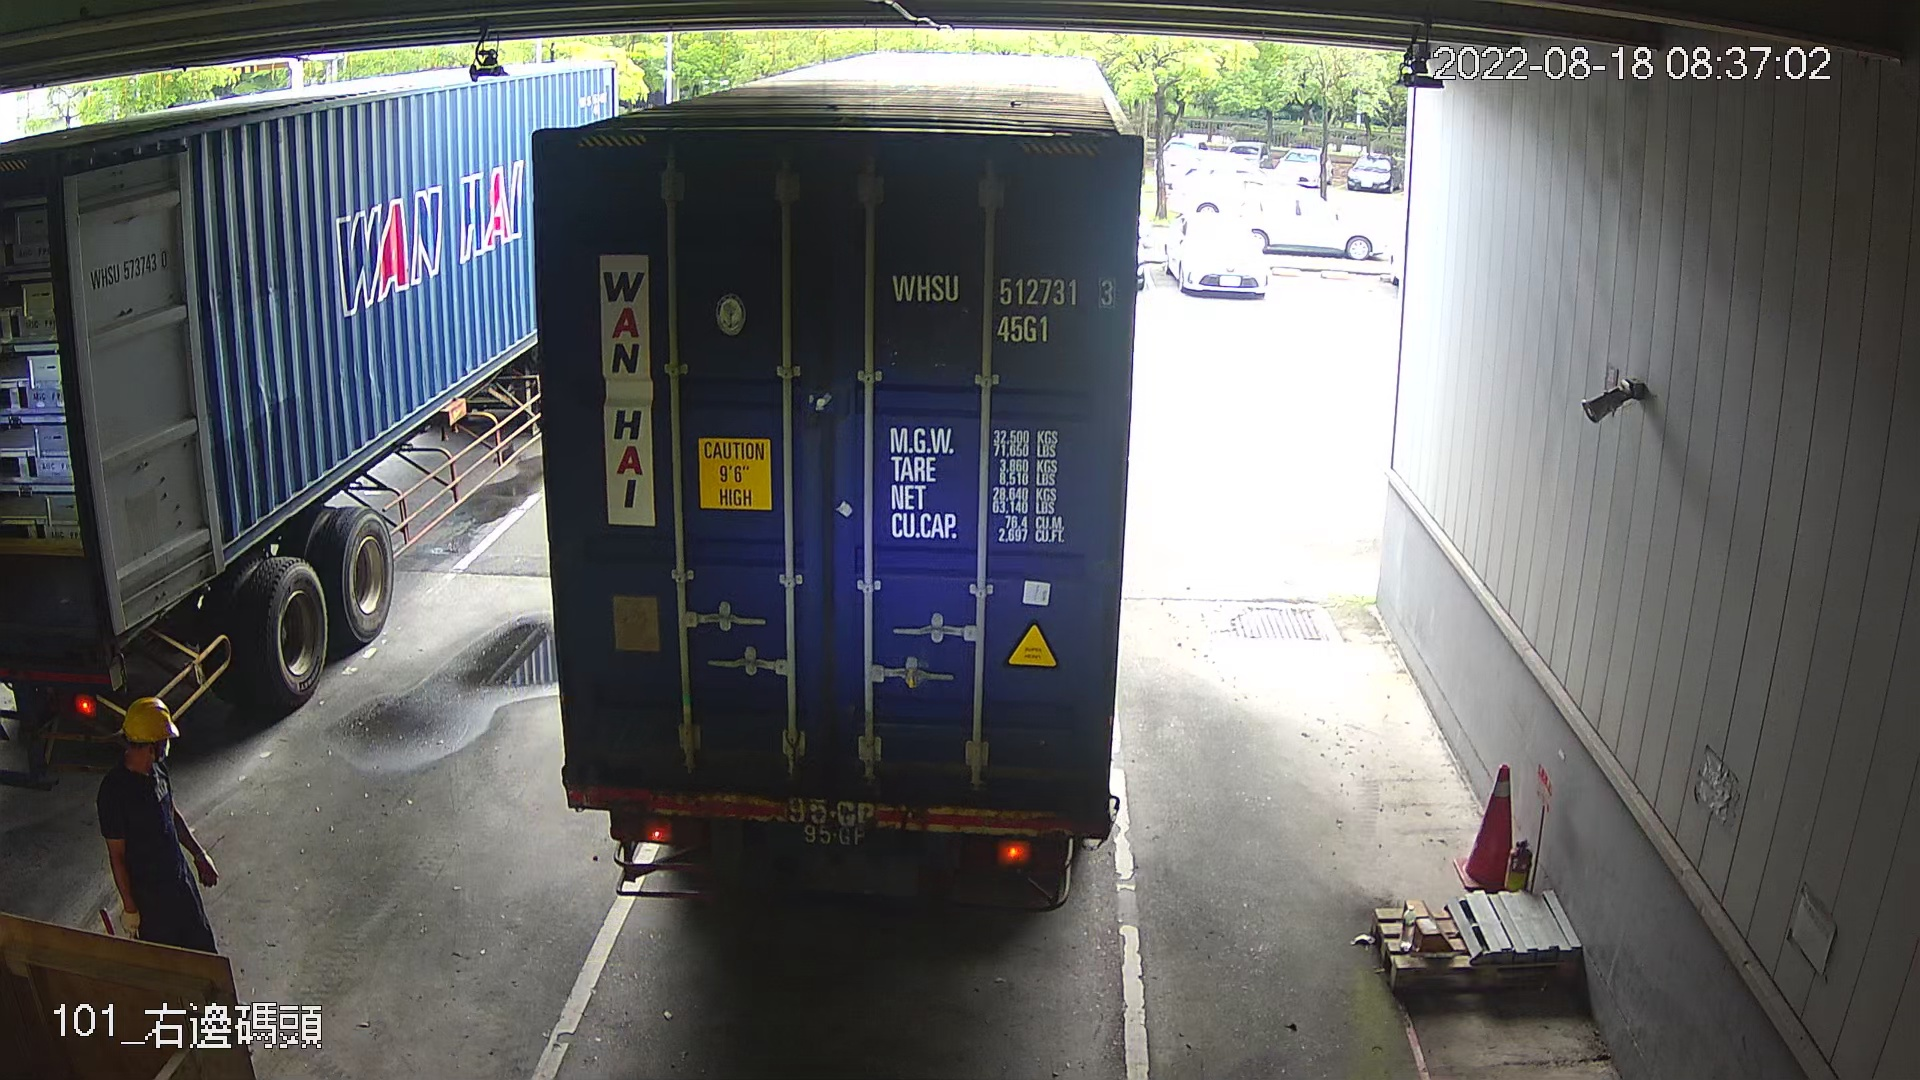container: (880, 262, 1125, 355)
